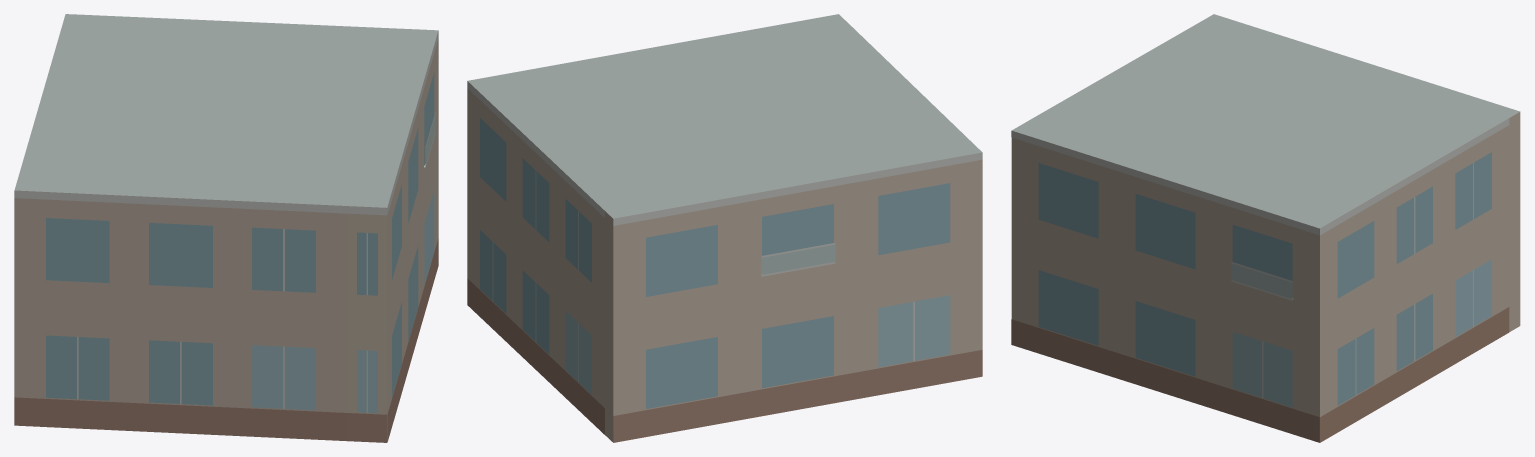
The model's file is survey-upis-32496712.glb.
3 views of the same model, side by side, from view 1: azimuth 30°, elevation 25°; view 2: azimuth 150°, elevation 25°; view 3: azimuth 270°, elevation 25° (orthographic). The views are drawn at different scales.
Visible parts, largest first — view 1: survey-upis-32496712.tmp; view 2: survey-upis-32496712.tmp; view 3: survey-upis-32496712.tmp.
Part boxes in pixels (bbox=[...]): survey-upis-32496712.tmp: bbox=[14, 14, 438, 442]; survey-upis-32496712.tmp: bbox=[467, 14, 982, 442]; survey-upis-32496712.tmp: bbox=[1011, 14, 1520, 442].
Size of the model in its own units: 16.33 by 7.6 by 16.37.
